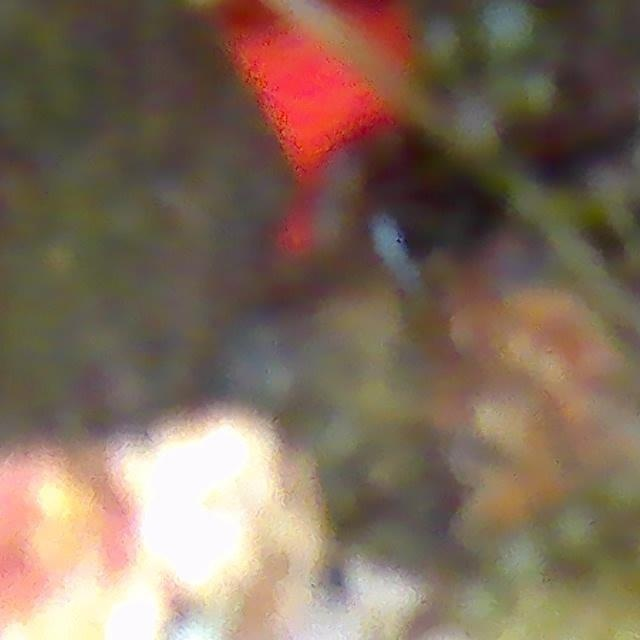SeaGrape: (478, 0, 539, 58)
